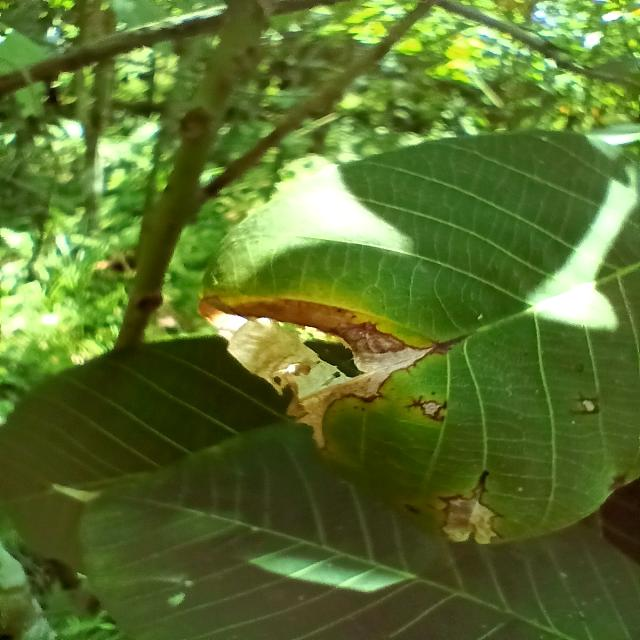Corynespora: (405, 394, 448, 423), (428, 332, 472, 354), (471, 470, 490, 501)
Leaf-Blight: (197, 294, 432, 448), (444, 497, 496, 545), (583, 400, 595, 411)
